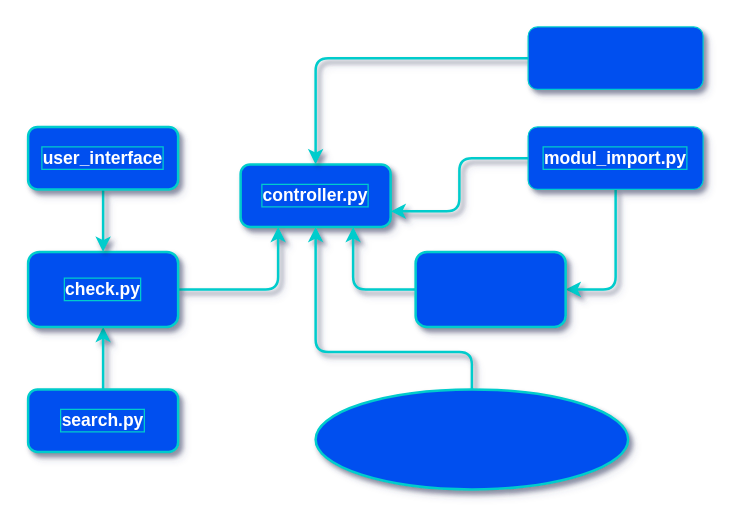
Some shapes in this 740 by 529 pixel diagram are drawn without their labels. Here are the shapes that lost their labels. From the top down, the centre of each, then its label:
At point (616, 59): "modul_export.py".
At point (491, 290): "create.py / delete".
At point (472, 440): "start / main.py".
